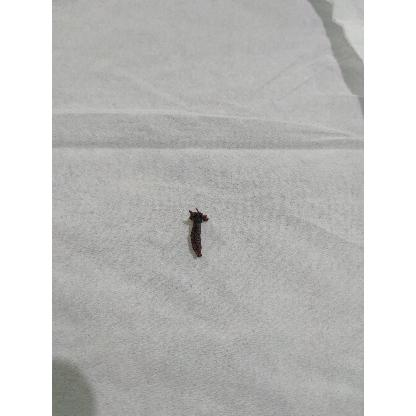buruk: (188, 208, 209, 259)
